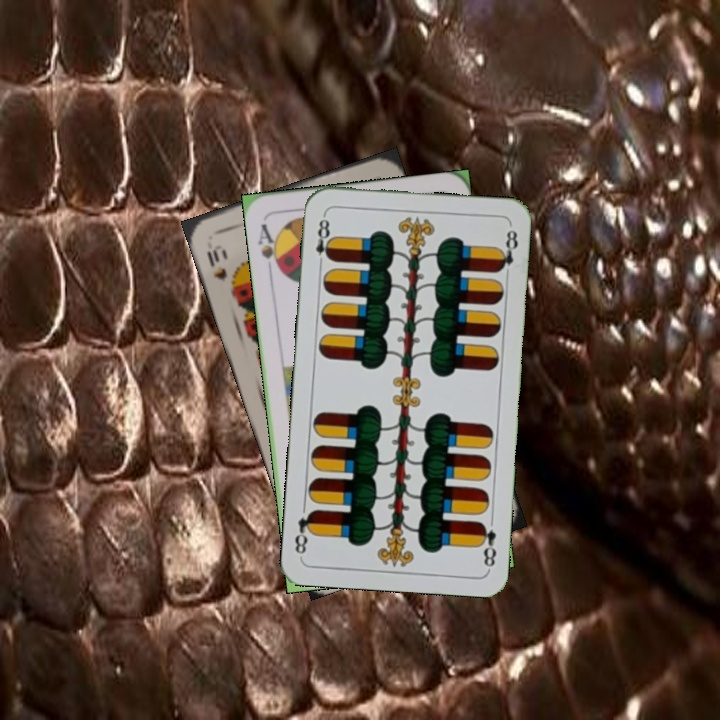E8: (312, 210, 336, 269), (475, 518, 499, 571)
S10: (203, 240, 230, 283)
SA: (254, 219, 285, 277)
